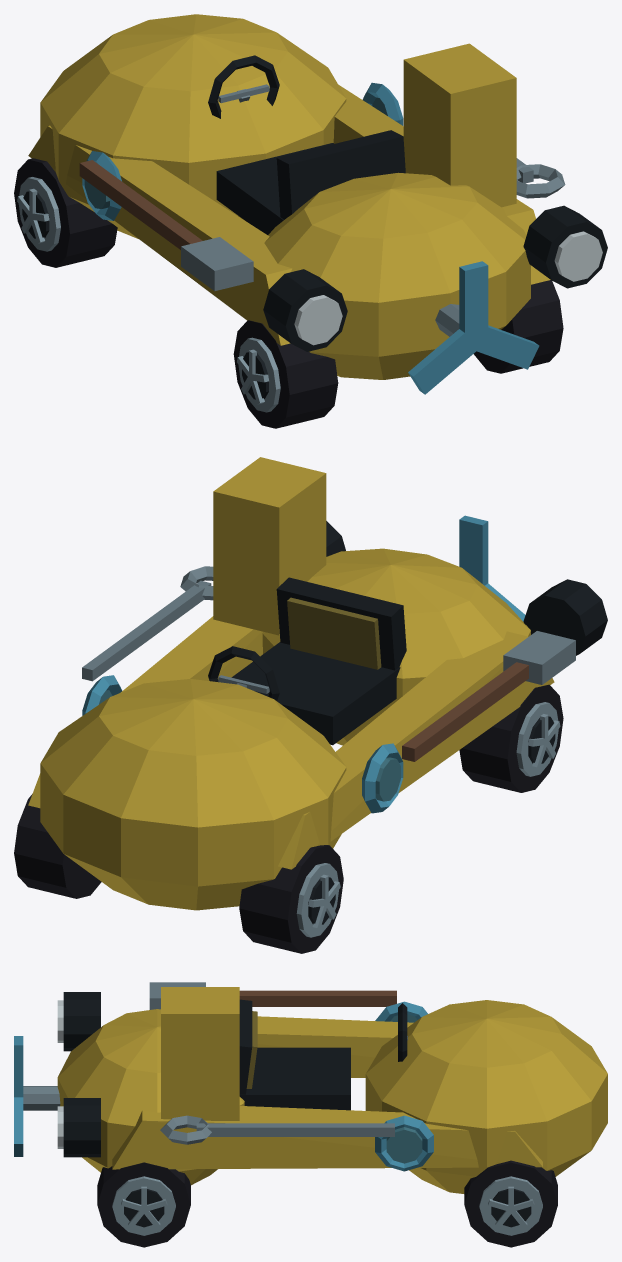
Rendered from kart.glb.
The picture shows the model from 3 angles, top to bottom: view 1: azimuth 30°, elevation 25°; view 2: azimuth 150°, elevation 25°; view 3: azimuth 270°, elevation 25°; orthographic projection. The views are drawn at different scales.
Parts seen in each view (by area): view 1: identity-submarine-submarine-rounded-bow-and-stern-propeller, identity-submarine-driver-cockpit, identity-submarine-motif-thrusters, wheel-rear-left, identity-submarine-motif-tools, wheel-front-left, wheel-rear-right; view 2: identity-submarine-submarine-rounded-bow-and-stern-propeller, identity-submarine-driver-cockpit, identity-submarine-motif-tools, wheel-front-left, wheel-rear-left, identity-submarine-motif-thrusters, wheel-front-right; view 3: identity-submarine-submarine-rounded-bow-and-stern-propeller, identity-submarine-driver-cockpit, identity-submarine-motif-tools, wheel-rear-right, wheel-front-right, identity-submarine-motif-thrusters.
Part boxes in pixels (x1,y1,x2,y2): identity-submarine-submarine-rounded-bow-and-stern-propeller: [28, 14, 550, 394]; identity-submarine-driver-cockpit: [208, 55, 405, 234]; identity-submarine-motif-thrusters: [263, 205, 607, 351]; wheel-rear-left: [233, 320, 338, 428]; identity-submarine-motif-tools: [79, 158, 565, 291]; wheel-front-left: [14, 158, 117, 267]; wheel-rear-right: [474, 280, 563, 373]; identity-submarine-submarine-rounded-bow-and-stern-propeller: [28, 457, 554, 910]; identity-submarine-driver-cockpit: [208, 577, 406, 745]; identity-submarine-motif-tools: [82, 566, 575, 761]; wheel-front-left: [239, 845, 343, 953]; wheel-rear-left: [459, 684, 563, 792]; identity-submarine-motif-thrusters: [326, 521, 607, 655]; wheel-front-right: [14, 794, 101, 898]; identity-submarine-submarine-rounded-bow-and-stern-propeller: [14, 987, 607, 1193]; identity-submarine-driver-cockpit: [239, 999, 407, 1110]; identity-submarine-motif-tools: [149, 982, 396, 1144]; wheel-rear-right: [97, 1162, 190, 1247]; wheel-front-right: [464, 1160, 557, 1247]; identity-submarine-motif-thrusters: [57, 992, 100, 1157].
Size of the model in its own units: 1.91 by 1.36 by 3.17.
